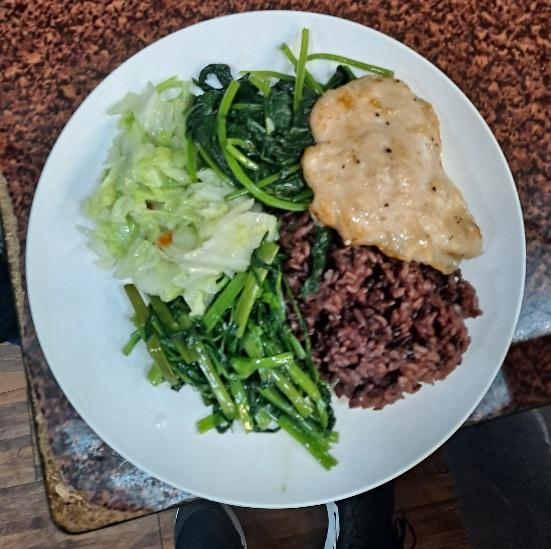big fried chicken leg: (27, 10, 534, 512)
braised fish: (274, 221, 485, 408)
braised fish fillet: (113, 254, 342, 467), (92, 84, 262, 293), (196, 59, 316, 210)
braised pork: (310, 70, 487, 269)
